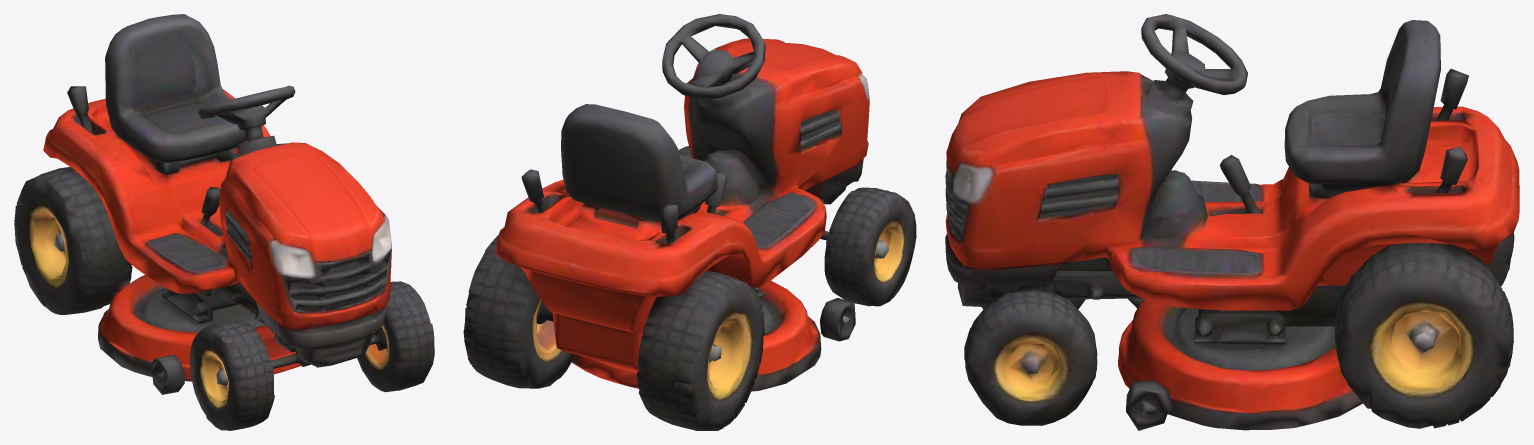
Rendered from mower.glb.
3 views of the same model, side by side, from view 1: azimuth 30°, elevation 25°; view 2: azimuth 150°, elevation 25°; view 3: azimuth 270°, elevation 25° (orthographic). The views are drawn at different scales.
Visible parts, largest first — view 1: mower-node; view 2: mower-node; view 3: mower-node.
Boxes of the visible parts, box(x1,y1,x2,y2) form: mower-node: box(14, 14, 434, 430); mower-node: box(463, 14, 916, 430); mower-node: box(945, 14, 1519, 430).
Size of the model in its own units: 0.8304 by 0.9981 by 1.5.
Materials: 1 (1 with a texture image).
